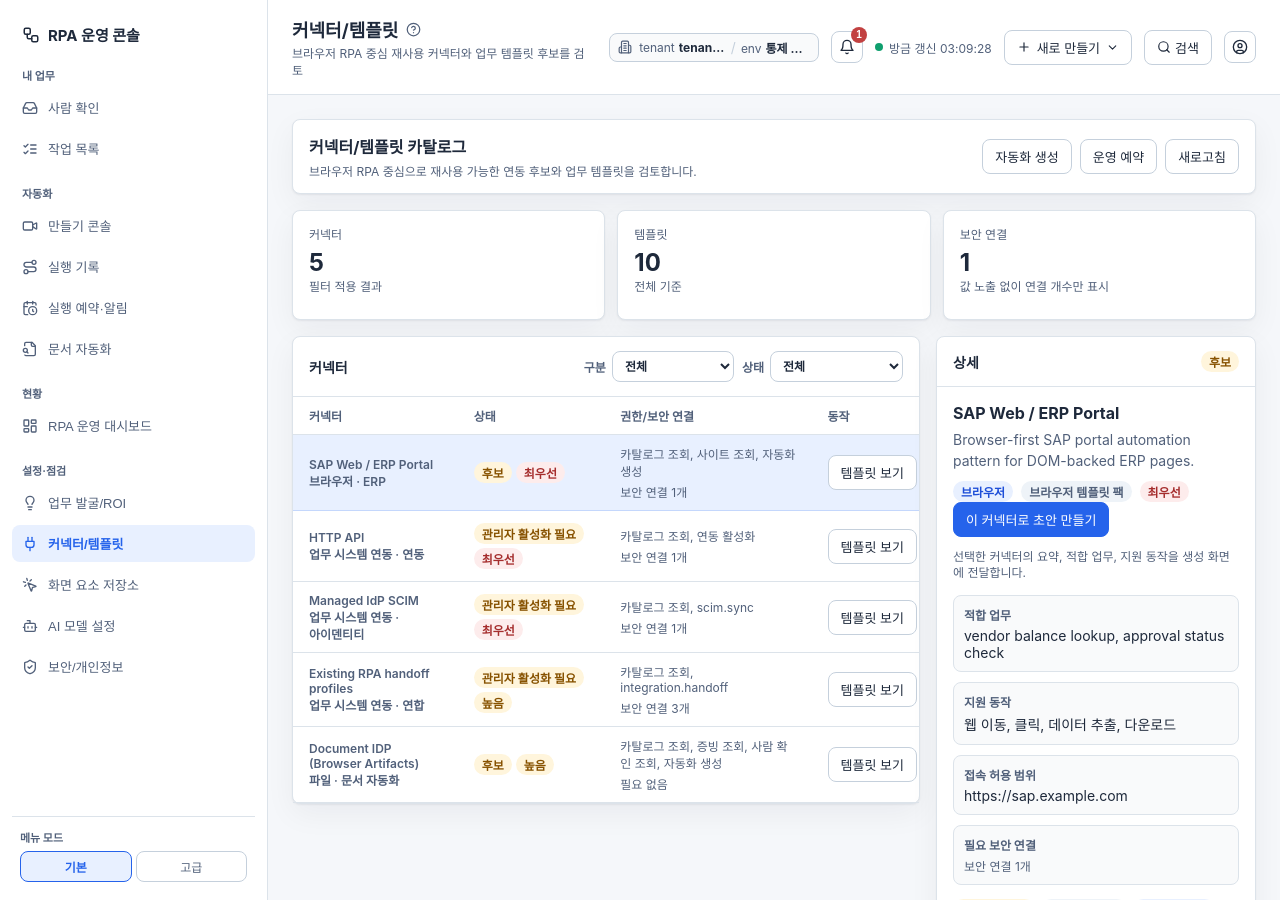
Test case: connector catalog view › opens the selected connector as a scenario generator draft prefill
Expected: the heading "SAP Web / ERP Portal" is shown, [953,403,1119,423]
Step 1. Click the button "이 커넥터로 초안 만들기" → coordinates (1031, 520), box [953,502,1109,537]
(page scrolled)
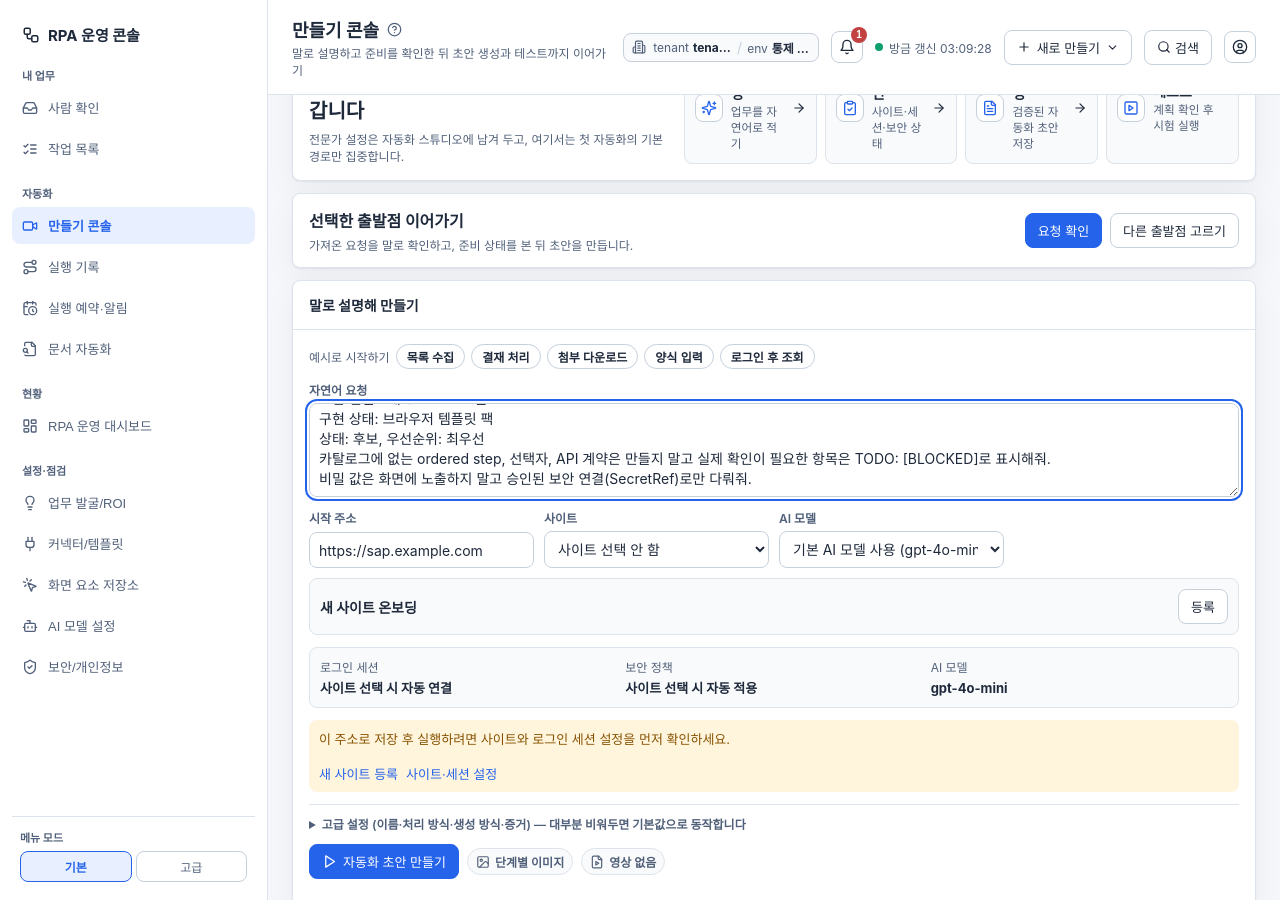
Now the element showing "SAP Web / ERP Portal 자동화 초안" is shown, box [309,804,1239,832]
Now the text box showing "TODO: [BLOCKED]" is shown, box [309,403,1239,497]
